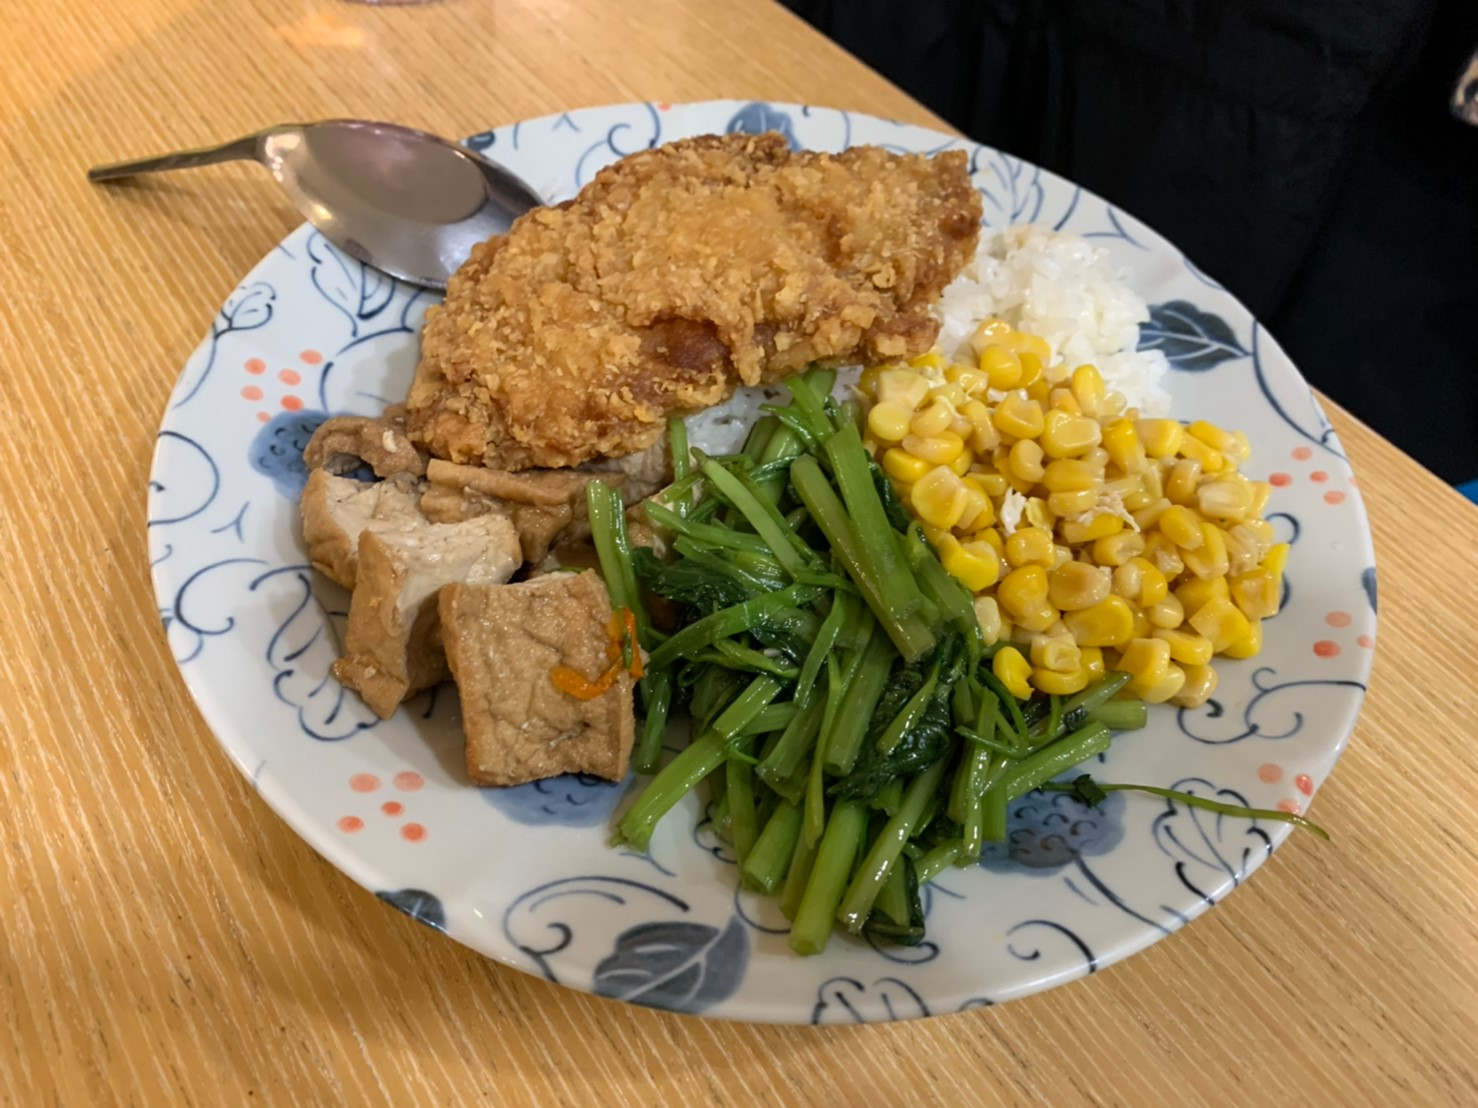fried_chicken: (415, 130, 976, 470)
water_spinach: (639, 422, 1007, 902)
